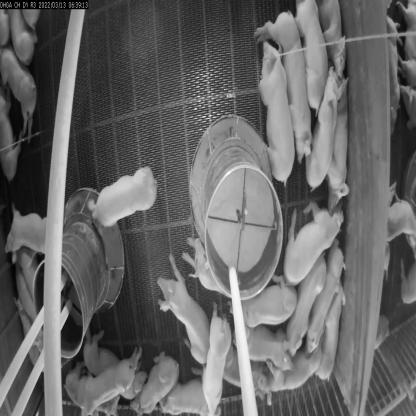Pig: (144, 249, 218, 374), (258, 8, 315, 163), (255, 36, 295, 185), (283, 195, 348, 283), (59, 350, 142, 416), (86, 165, 162, 233), (290, 0, 332, 118), (301, 63, 339, 192), (304, 238, 341, 358), (0, 46, 42, 145), (181, 223, 233, 300), (201, 296, 234, 415), (253, 346, 323, 398), (235, 276, 301, 331), (130, 346, 181, 416), (286, 252, 323, 339), (3, 200, 55, 260), (233, 327, 297, 373), (380, 177, 416, 257), (154, 373, 217, 415), (0, 88, 28, 182), (322, 286, 347, 389), (382, 14, 402, 127)
